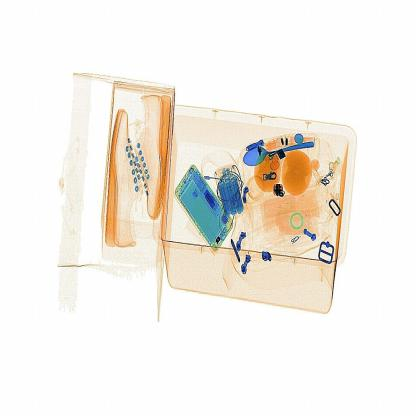scissors: (271, 184, 286, 200)
